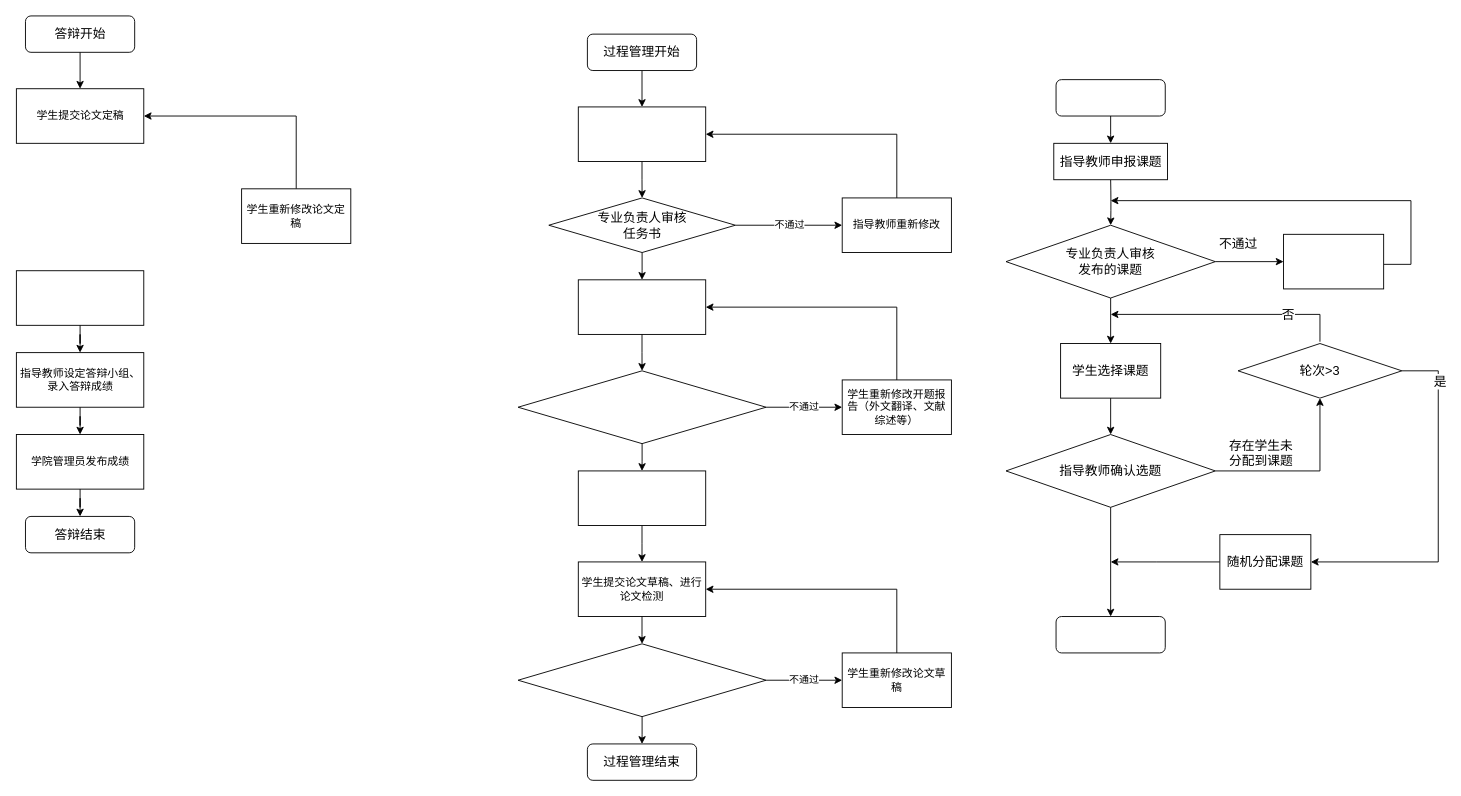
This 1461x796 diagram has some shape labels left out. The box of each missing label's shape, as (x1, y1, x2, y2) in pixels:
中期检查: (577, 470, 706, 526)
学生提交开题报告（外文翻译、文献综述等）: (577, 279, 706, 334)
指导教师下达任务书或者学生上传任务书，指导教师提交任务书: (577, 106, 706, 162)
指导教师审核开题报告 （外文翻译、文献综述等）: (517, 370, 766, 444)
指导教师审核论文草稿: (517, 643, 766, 717)
指导教师对论文定稿进行评分: (15, 270, 144, 325)
指导教师重新修改课题: (1283, 233, 1384, 289)
选题开始: (1055, 79, 1165, 116)
选题结束: (1055, 616, 1165, 653)
